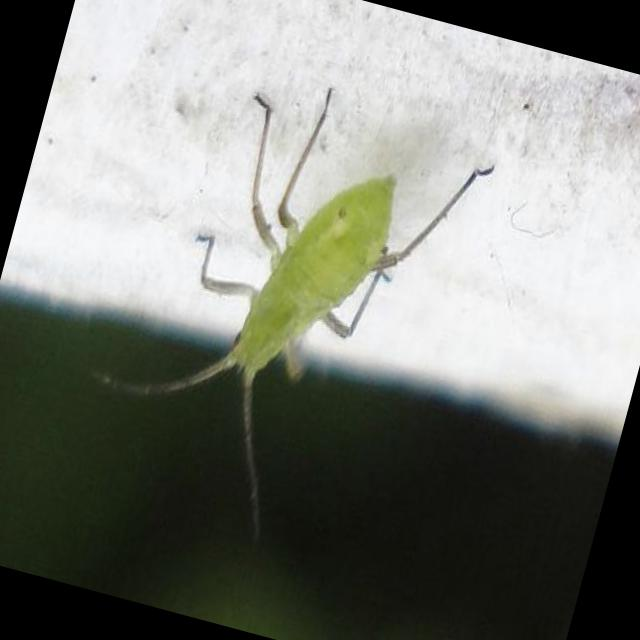Aphids: (40, 3, 532, 561)
